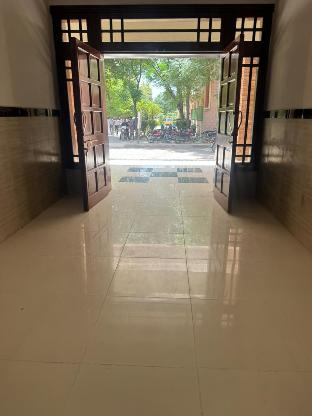door: (51, 1, 265, 218)
